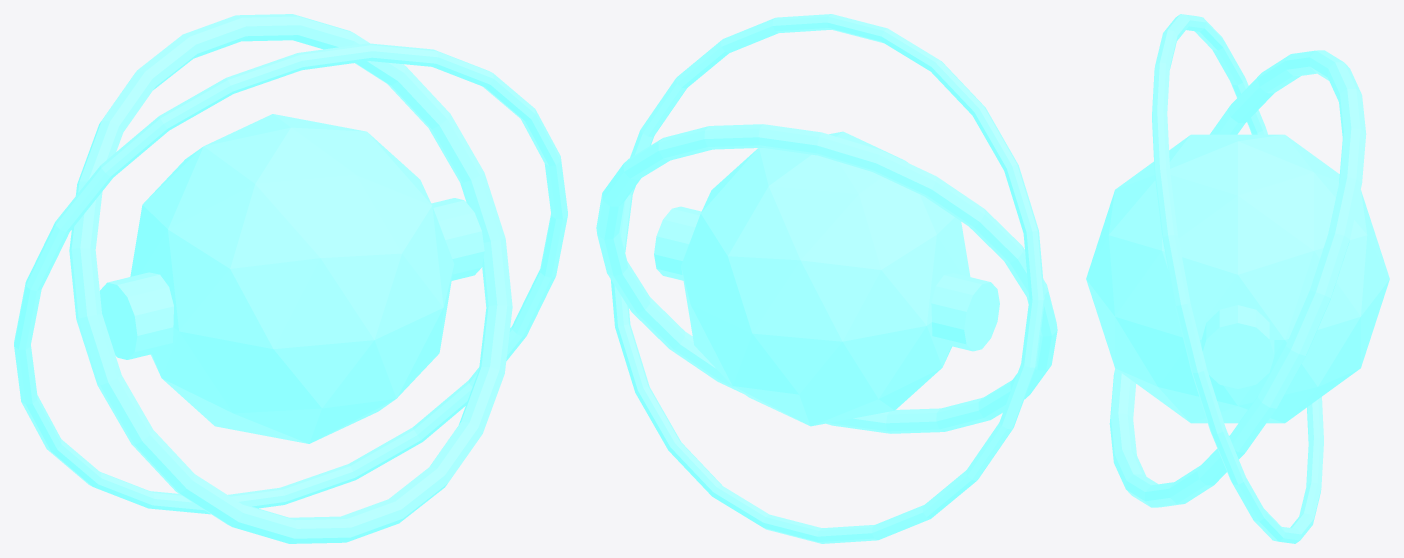
Rendered from commit_node.glb.
3 renders of one model, left to right at view 1: azimuth 30°, elevation 25°; view 2: azimuth 150°, elevation 25°; view 3: azimuth 270°, elevation 25°, orthographic. The views are drawn at different scales.
Parts seen in each view (by area): view 1: GitCommitNode; view 2: GitCommitNode; view 3: GitCommitNode.
Part boxes in pixels (<box>): GitCommitNode: <box>14,14,567,543</box>; GitCommitNode: <box>596,14,1057,543</box>; GitCommitNode: <box>1086,14,1389,543</box>.
Size of the model in its own units: 2.64 by 2.57 by 1.5.
